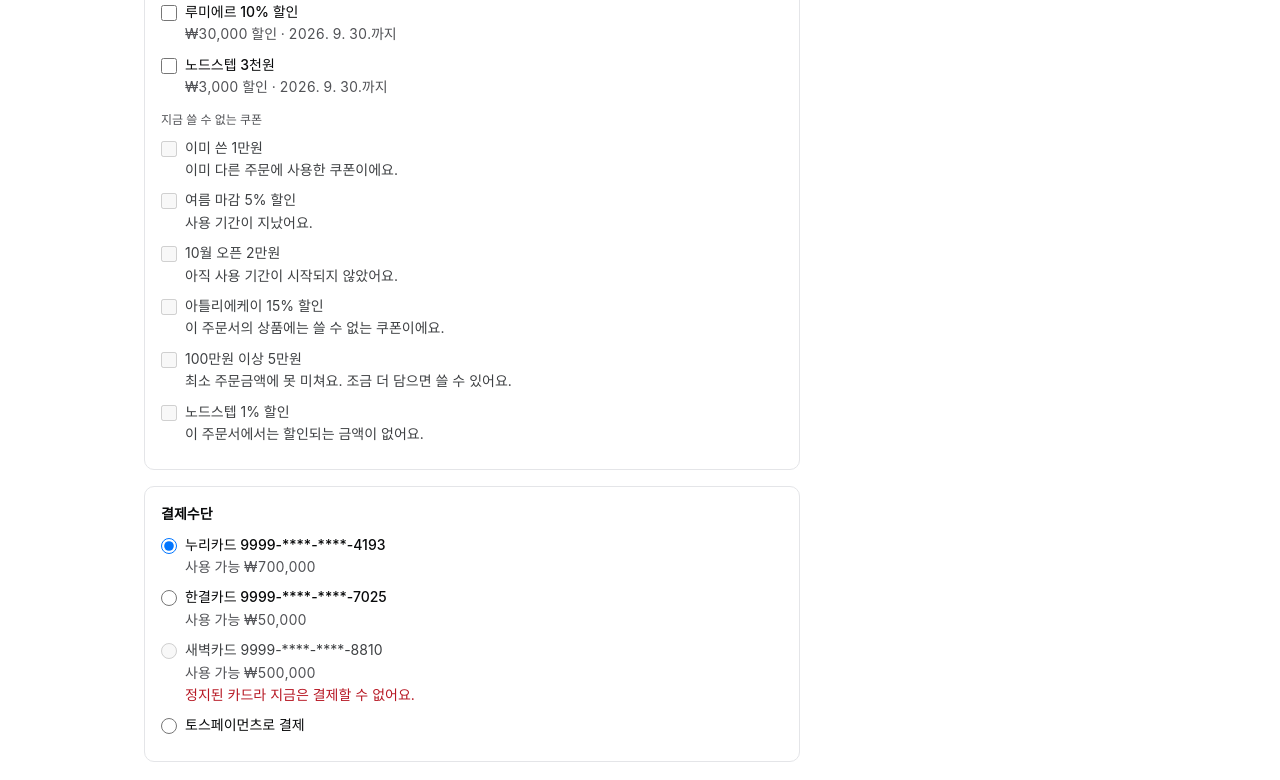
Scenario: 결제창이 열리지 않았을 때 › says so, keeps the hold, and offers another go
This screenshot has width=1280, height=780.
(page scrolled)
Expected: the element named "결제수단 선택" is shown, [160, 535, 415, 734]
Click the radio button labelled "토스페이먼츠로 결제" at (169, 726), box [161, 718, 177, 734]
(page scrolled)
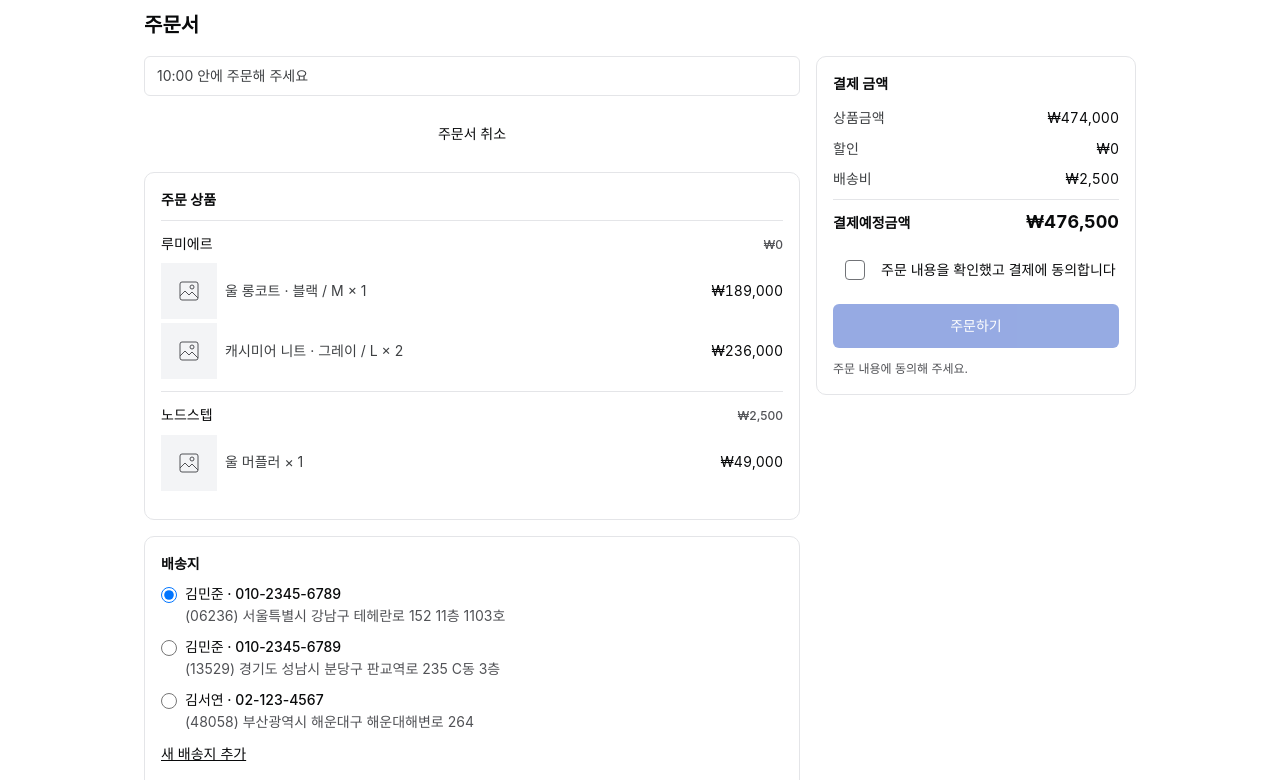
Click the checkbox named "주문 내용을 확인했고 결제에 동의합니다" at (855, 270), box [833, 248, 877, 292]
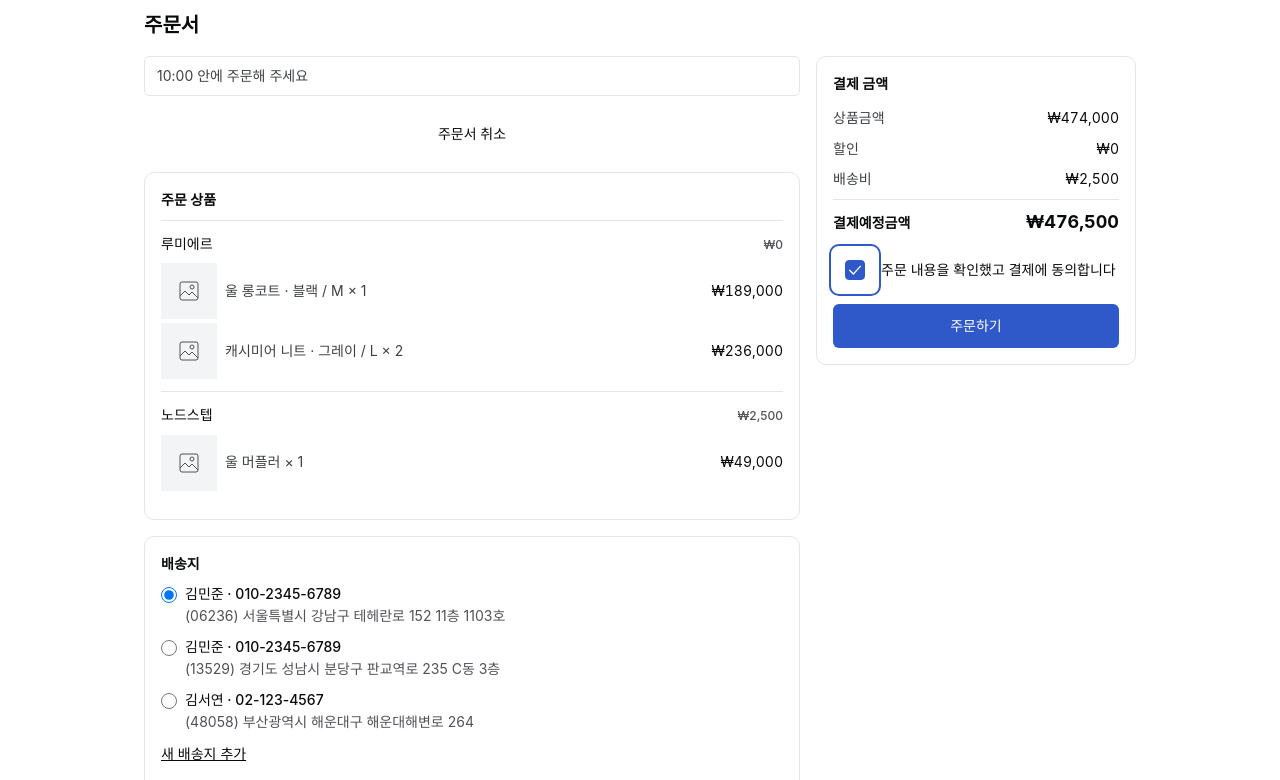
Click the button "주문하기" at (976, 326), box [833, 304, 1119, 348]
(page scrolled)
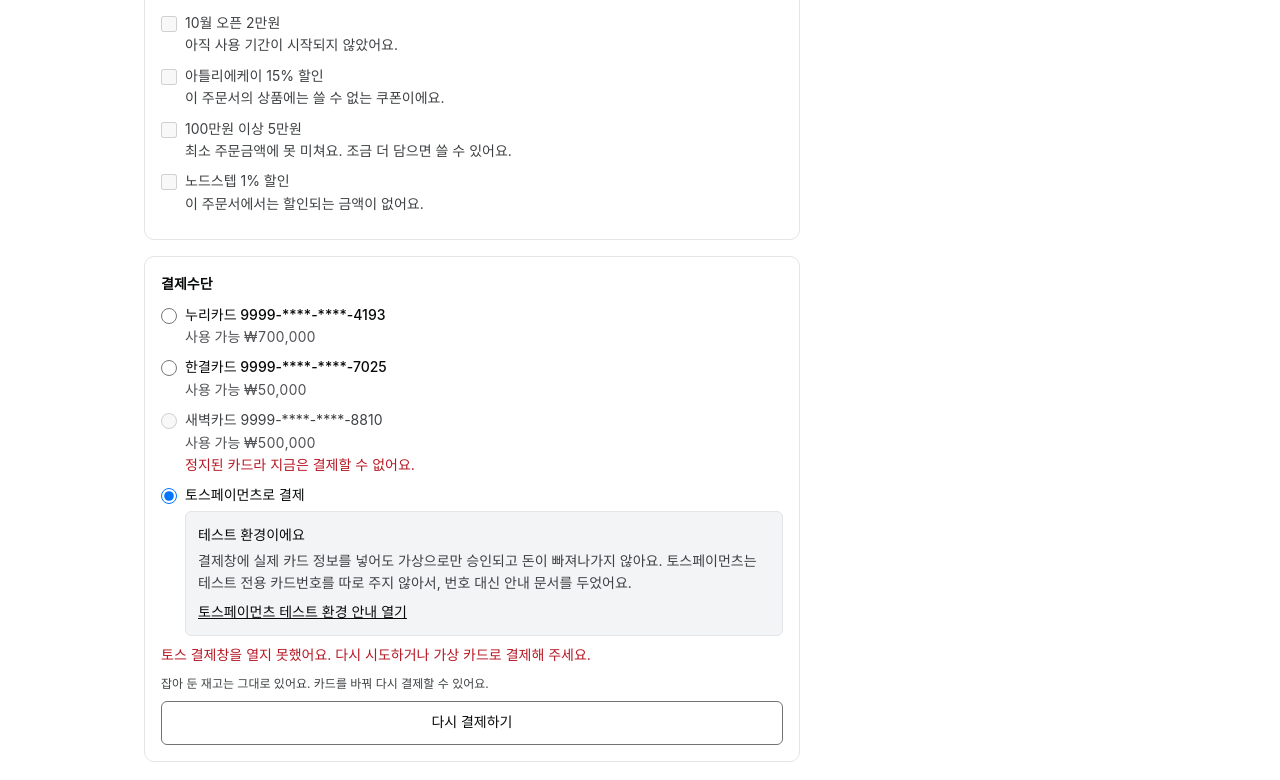
Now the text "토스 결제창을 열지 못했어요. 다시 시도하거나 가상 카드로 결제해 주세요." is shown, box [161, 646, 591, 663]
Now the text "잡아 둔 재고는 그대로 있어요. 카드를 바꿔 다시 결제할 수 있어요." is shown, box [161, 676, 489, 691]
Now the button "다시 결제하기" is shown, box [161, 701, 783, 745]
